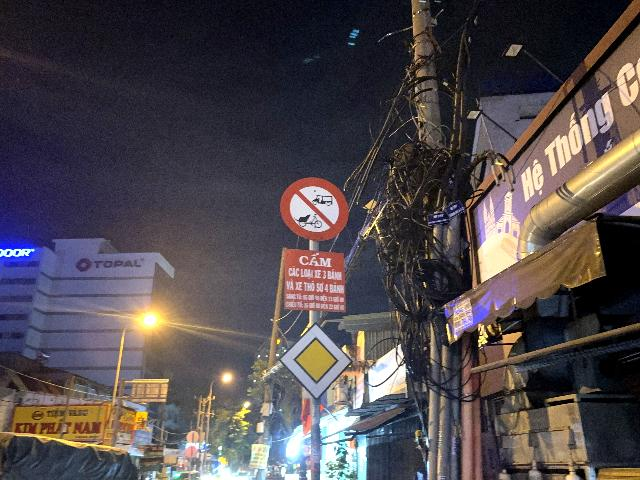bat-dau-duong-uu-tien: (278, 322, 353, 402)
cam-xe-3-banh-xe-tho-so-4-banh: (280, 175, 349, 241)
